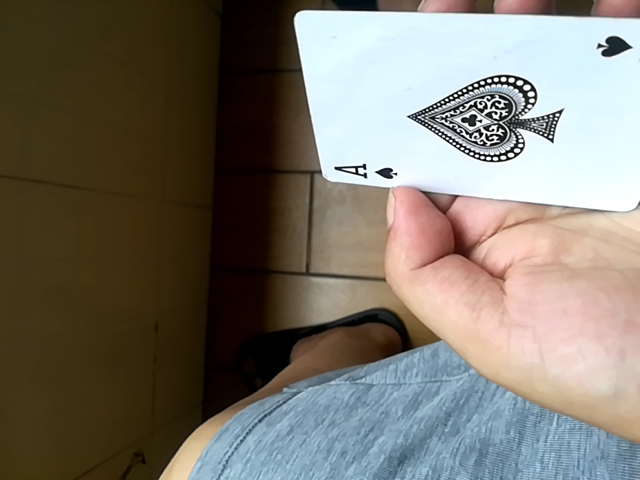ht a: (294, 14, 638, 212)
